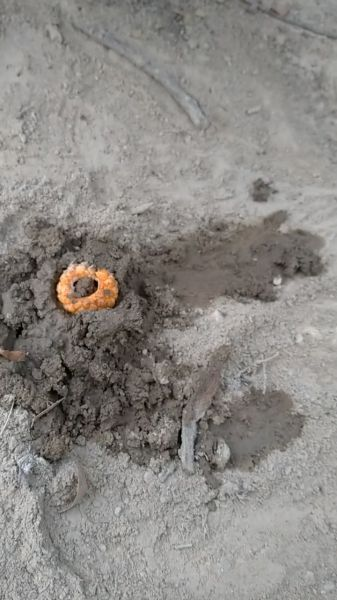eggs: (50, 258, 123, 320)
